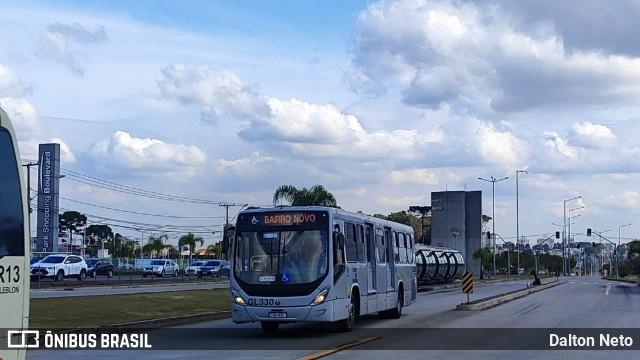BAIRRO NOVO: (260, 212, 318, 226)
